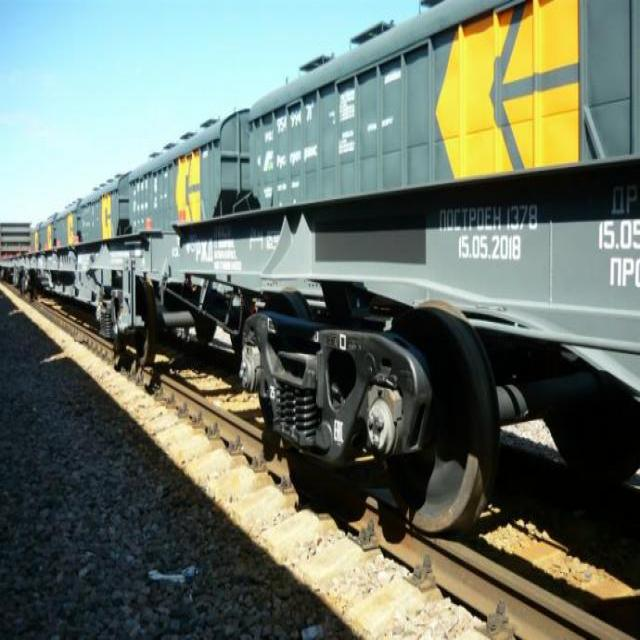boxcar: (244, 0, 640, 216), (127, 101, 249, 242), (77, 167, 126, 251)
flatcar: (168, 140, 640, 568)
